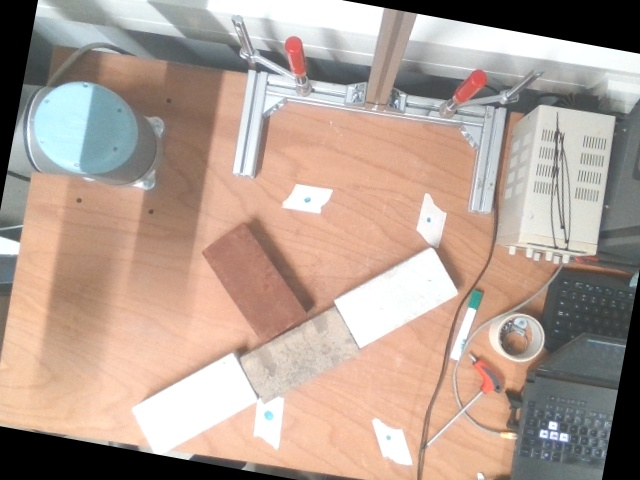brick: (136, 358, 251, 451), (338, 253, 452, 342), (208, 230, 300, 340), (243, 311, 354, 396)
